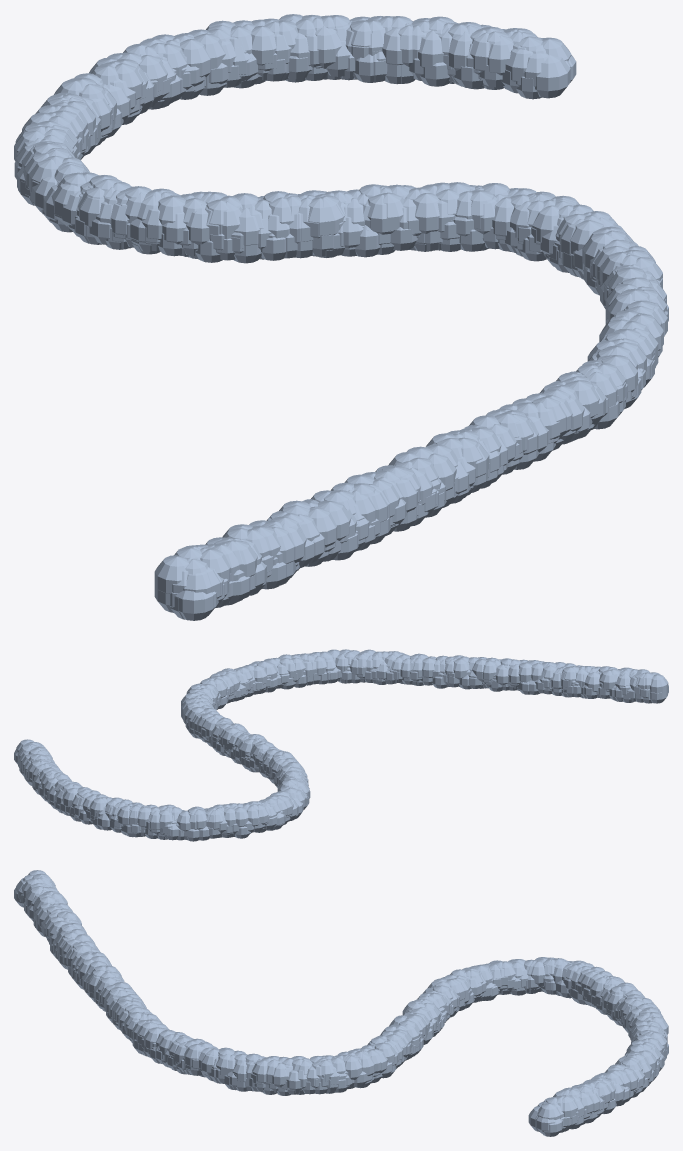
The model's file is ori_pointcloud.glb.
The picture shows the model from 3 angles, top to bottom: view 1: azimuth 30°, elevation 25°; view 2: azimuth 150°, elevation 25°; view 3: azimuth 270°, elevation 25°; orthographic projection. The views are drawn at different scales.
Parts seen in each view (by area): view 1: world; view 2: world; view 3: world.
Boxes of the visible parts, x1=… form: world: x1=14, y1=14, x2=668, y2=620; world: x1=14, y1=649, x2=668, y2=841; world: x1=14, y1=870, x2=668, y2=1136.
Bounding box in the file's own units: 0.8386 × 0.0664 × 0.9593.
